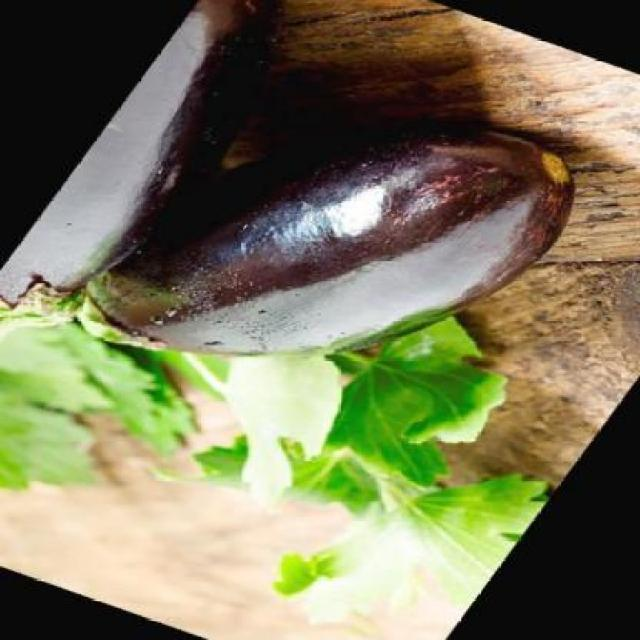eggplant: (58, 114, 582, 362), (1, 0, 230, 304)
